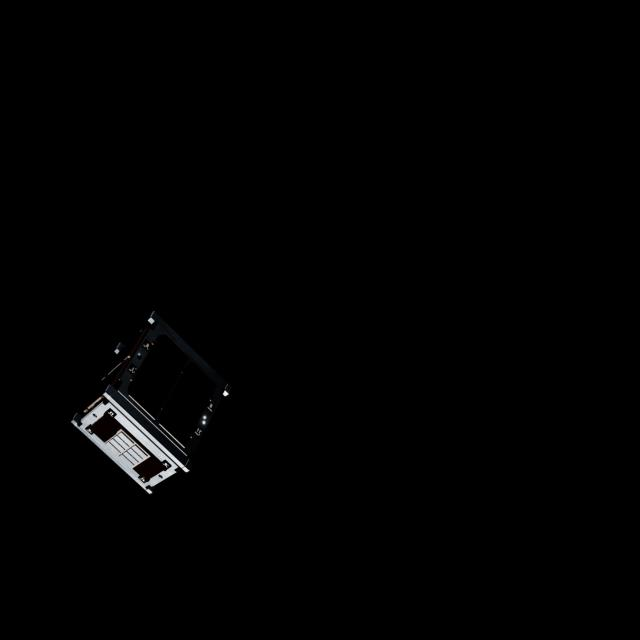medium_debris: (62, 311, 240, 498)
